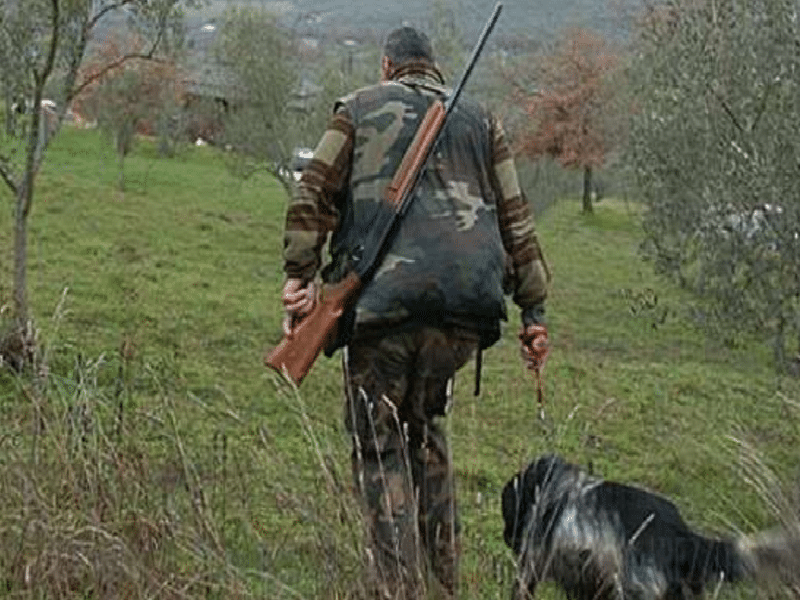cacciatore: (277, 18, 564, 600)
cane da caccia: (493, 449, 780, 600)
fucile: (260, 1, 509, 378)
